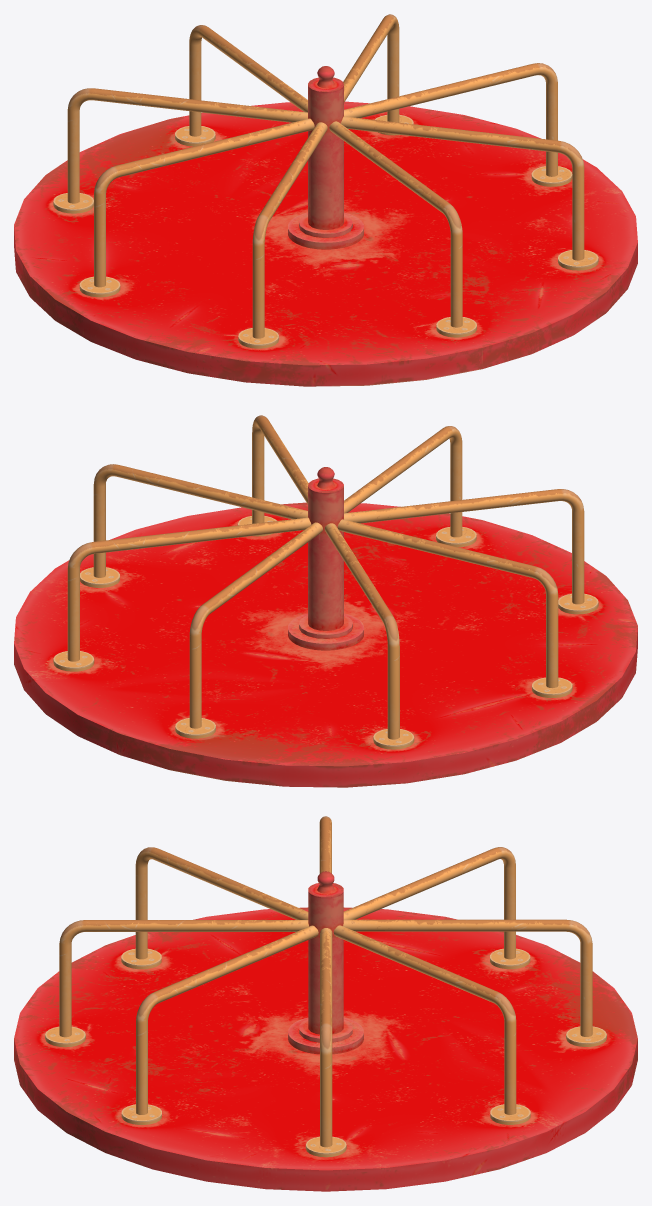
File: Merry.Go.Round.fbx
The picture shows the model from 3 angles, top to bottom: view 1: azimuth 30°, elevation 25°; view 2: azimuth 150°, elevation 25°; view 3: azimuth 270°, elevation 25°; orthographic projection.
Visible parts, largest first — view 1: Merry.Go.Round_low; view 2: Merry.Go.Round_low; view 3: Merry.Go.Round_low.
Boxes of the visible parts, x1,y1,x2,y2 form: Merry.Go.Round_low: (14,14,637,386); Merry.Go.Round_low: (14,415,637,787); Merry.Go.Round_low: (14,816,637,1191).
Bounding box in the file's own units: 1350 × 446 × 1350.
1 material, 1 textured.
